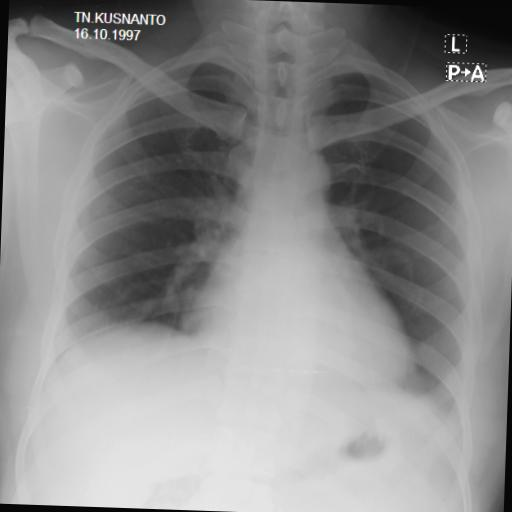kardiomegali: (29, 16, 495, 445)
